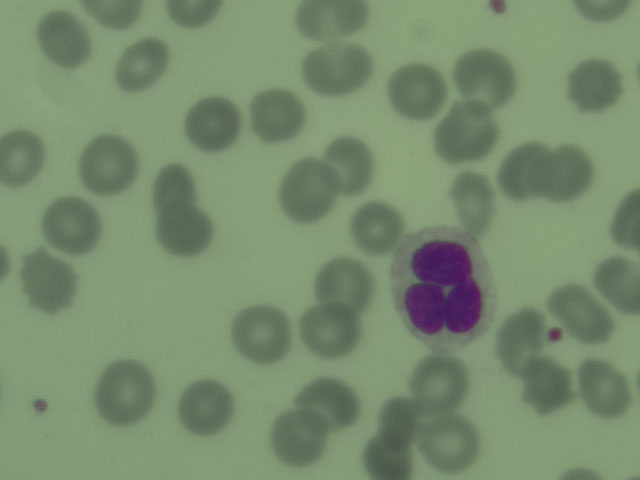Platelets: (28, 391, 54, 421), (486, 1, 514, 16), (547, 327, 565, 345)
RBC: (18, 254, 80, 310), (295, 48, 375, 91), (97, 364, 151, 421), (1, 130, 45, 192), (295, 1, 366, 38), (352, 200, 403, 249), (577, 366, 628, 415), (521, 361, 572, 410), (316, 259, 367, 308), (303, 307, 354, 356), (425, 420, 476, 469), (413, 355, 464, 404), (303, 376, 354, 425), (273, 413, 324, 462), (545, 145, 596, 194), (500, 146, 551, 195), (446, 174, 497, 223), (569, 61, 620, 110), (442, 109, 493, 158), (457, 53, 508, 102), (390, 66, 441, 115), (249, 92, 300, 141), (187, 100, 238, 149), (236, 310, 287, 359), (180, 383, 231, 432), (154, 206, 205, 255), (47, 201, 98, 250), (83, 140, 134, 189), (115, 38, 166, 87), (37, 14, 88, 63), (325, 141, 376, 190), (496, 313, 547, 362), (562, 290, 613, 339), (280, 165, 331, 214), (150, 158, 196, 211), (363, 437, 416, 479), (375, 398, 418, 447), (607, 188, 640, 251), (168, 1, 228, 32), (568, 1, 639, 25), (84, 1, 143, 29)
WBC: (396, 225, 494, 350)
